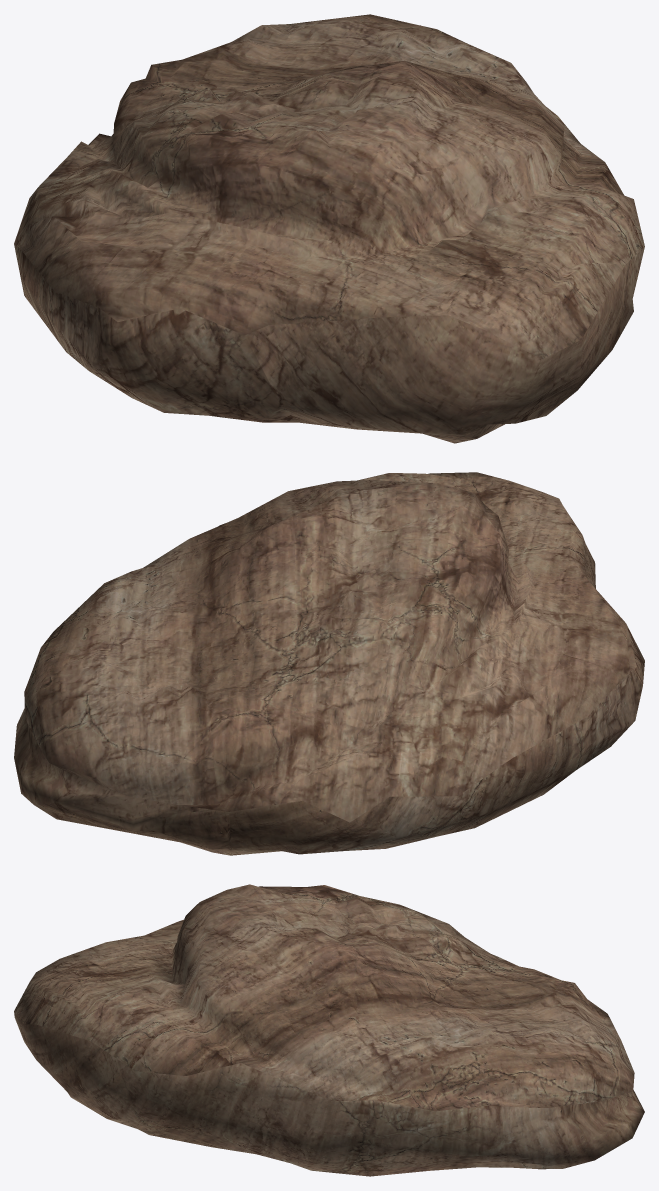
File: rock_small07_projected.dae
The picture shows the model from 3 angles, top to bottom: view 1: azimuth 30°, elevation 25°; view 2: azimuth 150°, elevation 25°; view 3: azimuth 270°, elevation 25°; orthographic projection. The views are drawn at different scales.
Visible parts, largest first — view 1: Mesh; view 2: Mesh; view 3: Mesh.
Boxes of the visible parts, x1,y1,x2,y2 form: Mesh: (14, 14, 644, 443); Mesh: (14, 472, 644, 855); Mesh: (14, 884, 644, 1176).
Bounding box in the file's own units: 0.7048 × 0.3352 × 0.9288.
